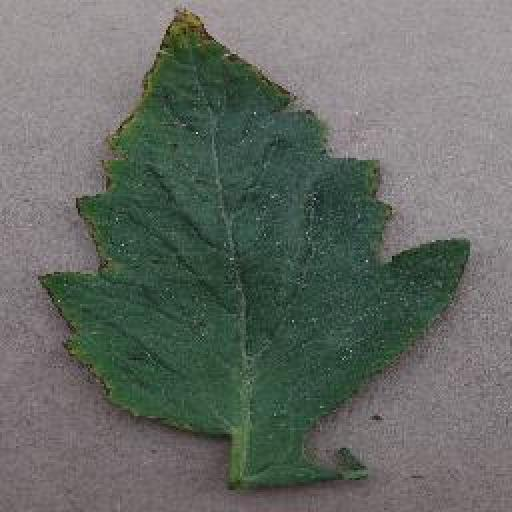Bacterial Spot: (40, 4, 473, 487)
